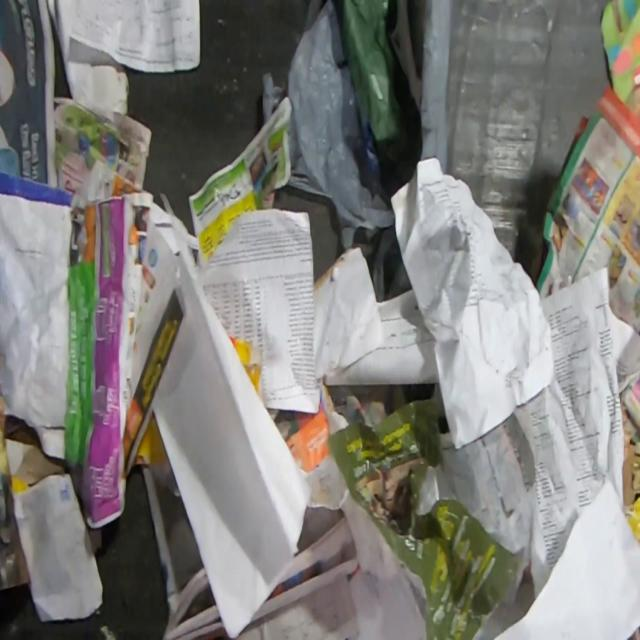soft_plastic: (287, 0, 453, 303), (260, 70, 283, 125)
